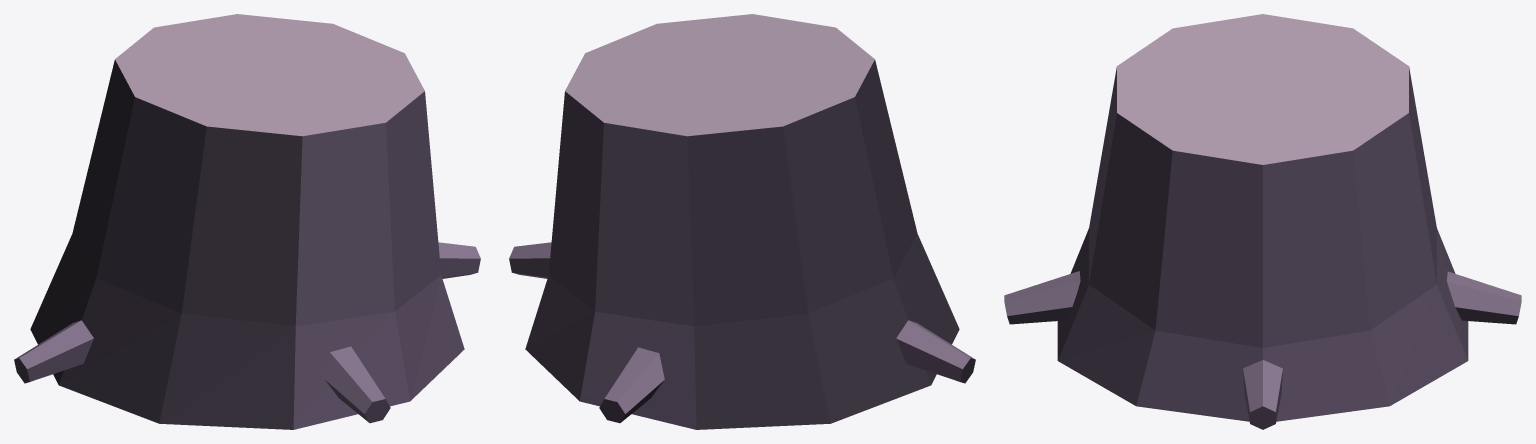
The model's file is TW_PROP_STUMP_ROUND_B_LOD0.glb.
3 views of the same model, side by side, from view 1: azimuth 30°, elevation 25°; view 2: azimuth 150°, elevation 25°; view 3: azimuth 270°, elevation 25° (orthographic).
Parts seen in each view (by area): view 1: TW_PROP_STUMP_ROUND_B_LOD0; view 2: TW_PROP_STUMP_ROUND_B_LOD0; view 3: TW_PROP_STUMP_ROUND_B_LOD0.
Part boxes in pixels (bbox=[...]): TW_PROP_STUMP_ROUND_B_LOD0: bbox=[14, 14, 480, 429]; TW_PROP_STUMP_ROUND_B_LOD0: bbox=[509, 14, 975, 429]; TW_PROP_STUMP_ROUND_B_LOD0: bbox=[1004, 14, 1521, 429].
Size of the model in its own units: 1.22 by 0.6881 by 1.22.
Materials: 1 (1 with a texture image).
